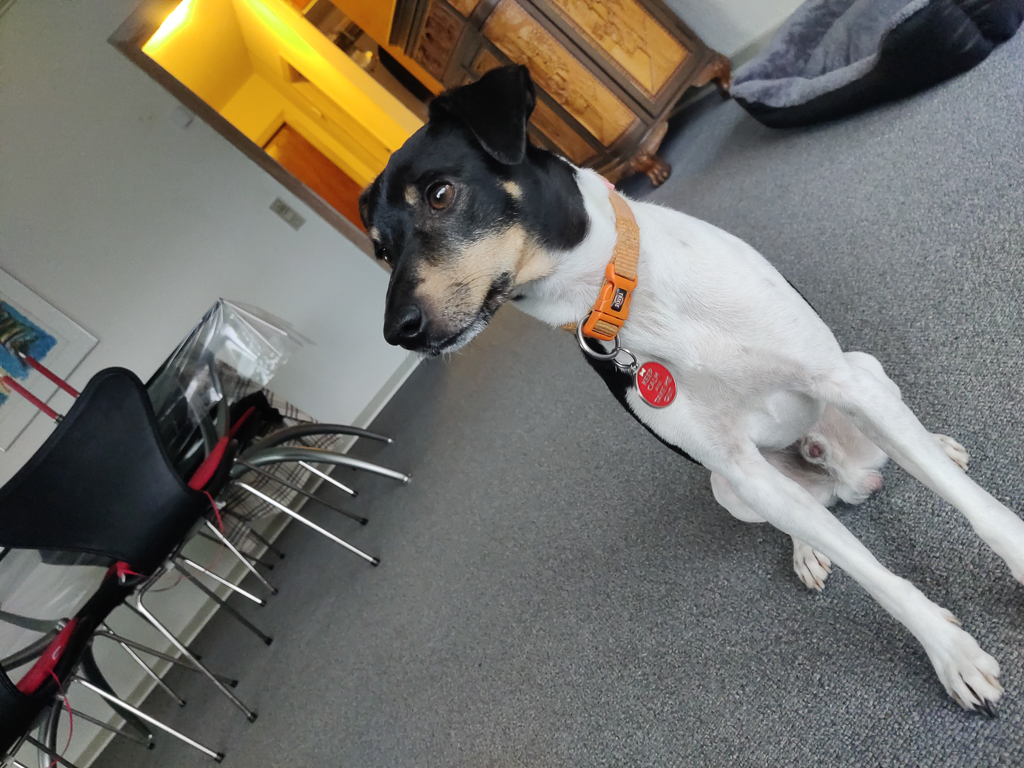Dog: (324, 50, 1024, 738)
